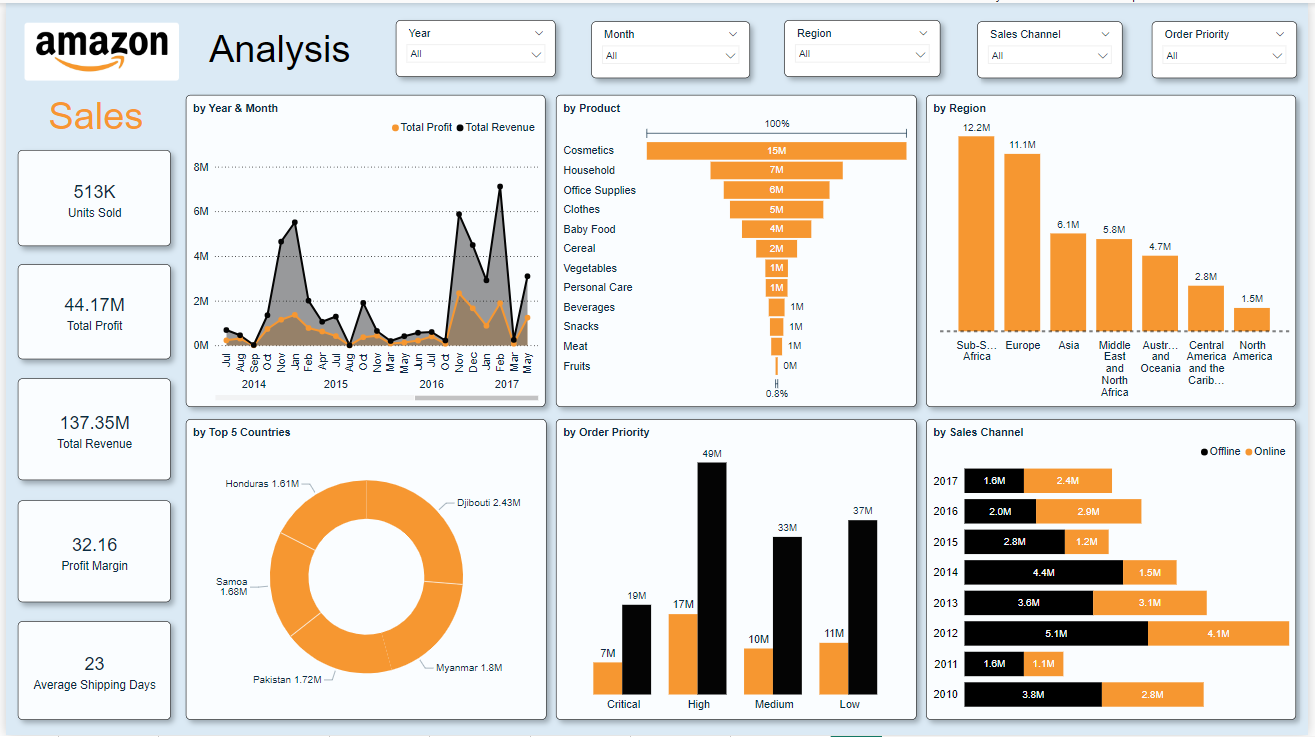

The dashboard page shown, as its layout file describes it:
{"tool":"powerbi","page":{"name":"Main Dashboard","canvas":[1920,1080],"ordinal":0},"visuals":[{"type":"slicer","fields":{"Values":["Country Data.Region"]},"box":[1147,26,229.8,83.9],"z":0},{"type":"card","fields":{"Values":["Sum(Amazon Sales data.Total Revenue)"]},"box":[18,553.5,225.8,149.9],"z":1000},{"type":"card","fields":{"Values":["Sum(Amazon Sales data.Total Profit)"]},"box":[18,385.7,225.8,139.9],"z":2000},{"type":"funnel","title":"by Product","fields":{"Category":["Product Data.Product Type"],"Y":["Sum(Amazon Sales data.Total Profit)"]},"box":[810.8,135.5,532.2,460.6],"z":3000},{"type":"card","fields":{"Values":["Sum(Amazon Sales data.Units Sold)"]},"box":[18,215.8,225.8,141.9],"z":4000},{"type":"lineChart","title":"by Year & Month","fields":{"Y":["Sum(Amazon Sales data.Total Profit)","Sum(Amazon Sales data.Total Revenue)"],"Category":["Amazon Sales data.Order Date Year","Amazon Sales data.Order Date Month"]},"box":[265.1,135.5,530.2,460.6],"z":5000},{"type":"card","fields":{"Values":["Avg(Amazon Sales data.Shipping Time)"]},"box":[18,911.2,225.8,145.9],"z":6000},{"type":"card","fields":{"Values":["Amazon Sales data.Profit Margin"]},"box":[18,733.4,225.8,149.9],"z":7000},{"type":"donutChart","title":"by Top 5 Countries","fields":{"Category":["Country Data.Country"],"Y":["Sum(Amazon Sales data.Total Profit)"]},"box":[265.1,613.4,532.2,443.2],"z":8000},{"type":"slicer","fields":{"Values":["Amazon Sales data.Order Date Month"]},"box":[863.3,28,233.8,83.9],"z":9000},{"type":"slicer","fields":{"Values":["Sales Channel Data.Sales Channel"]},"box":[1432.8,28,213.8,83.9],"z":10000},{"type":"image","box":[17.4,7.7,247.7,127.7],"z":11000},{"type":"slicer","fields":{"Values":["Amazon Sales data.Order Date Year"]},"box":[575.5,26,235.8,83.9],"z":12000},{"type":"textbox","box":[276.7,34.8,253.5,71.6],"z":13000},{"type":"clusteredColumnChart","title":"by Order Priority","fields":{"Y":["Sum(Amazon Sales data.Total Profit)","Sum(Amazon Sales data.Total Revenue)"],"Category":["Order Priority Data.Order Priority"]},"box":[810.8,613.4,532.2,443.2],"z":14000},{"type":"slicer","fields":{"Values":["Order Priority Data.Order Priority"]},"box":[1688.6,28,213.8,83.9],"z":15000},{"type":"textbox","box":[19.4,133.5,226.4,71.6],"z":16000},{"type":"columnChart","title":"by Region","fields":{"Category":["Country Data.Region"],"Y":["Sum(Amazon Sales data.Total Profit)"]},"box":[1356.5,135.5,545.7,460.6],"z":17000},{"type":"barChart","title":"by Sales Channel","fields":{"Category":["Amazon Sales data.Order Date.Variation.Date Hierarchy.Year","Amazon Sales data.Order Date.Variation.Date Hierarchy.Month"],"Y":["Sum(Amazon Sales data.Total Profit)"],"Series":["Sales Channel Data.Sales Channel"]},"box":[1356.5,613.4,545.7,443.2],"z":18000}]}

Visuals, with their boxes in screenshot pixels (x1, y1, x2, y2), scaled from the page's 1920x1080 canvas onto the 1315x737 screenshot:
slicer - Country Data.Region: l=786, t=18, r=943, b=75
card - Sum(Amazon Sales data.Total Revenue): l=12, t=378, r=167, b=480
card - Sum(Amazon Sales data.Total Profit): l=12, t=263, r=167, b=359
"by Product" funnel: l=555, t=92, r=920, b=407
card - Sum(Amazon Sales data.Units Sold): l=12, t=147, r=167, b=244
"by Year & Month" lineChart: l=182, t=92, r=545, b=407
card - Avg(Amazon Sales data.Shipping Time): l=12, t=622, r=167, b=721
card - Amazon Sales data.Profit Margin: l=12, t=500, r=167, b=603
"by Top 5 Countries" donutChart: l=182, t=419, r=546, b=721
slicer - Amazon Sales data.Order Date Month: l=591, t=19, r=751, b=76
slicer - Sales Channel Data.Sales Channel: l=981, t=19, r=1128, b=76
image: l=12, t=5, r=182, b=92
slicer - Amazon Sales data.Order Date Year: l=394, t=18, r=556, b=75
textbox: l=190, t=24, r=363, b=73
"by Order Priority" clusteredColumnChart: l=555, t=419, r=920, b=721
slicer - Order Priority Data.Order Priority: l=1157, t=19, r=1303, b=76
textbox: l=13, t=91, r=168, b=140
"by Region" columnChart: l=929, t=92, r=1303, b=407
"by Sales Channel" barChart: l=929, t=419, r=1303, b=721
